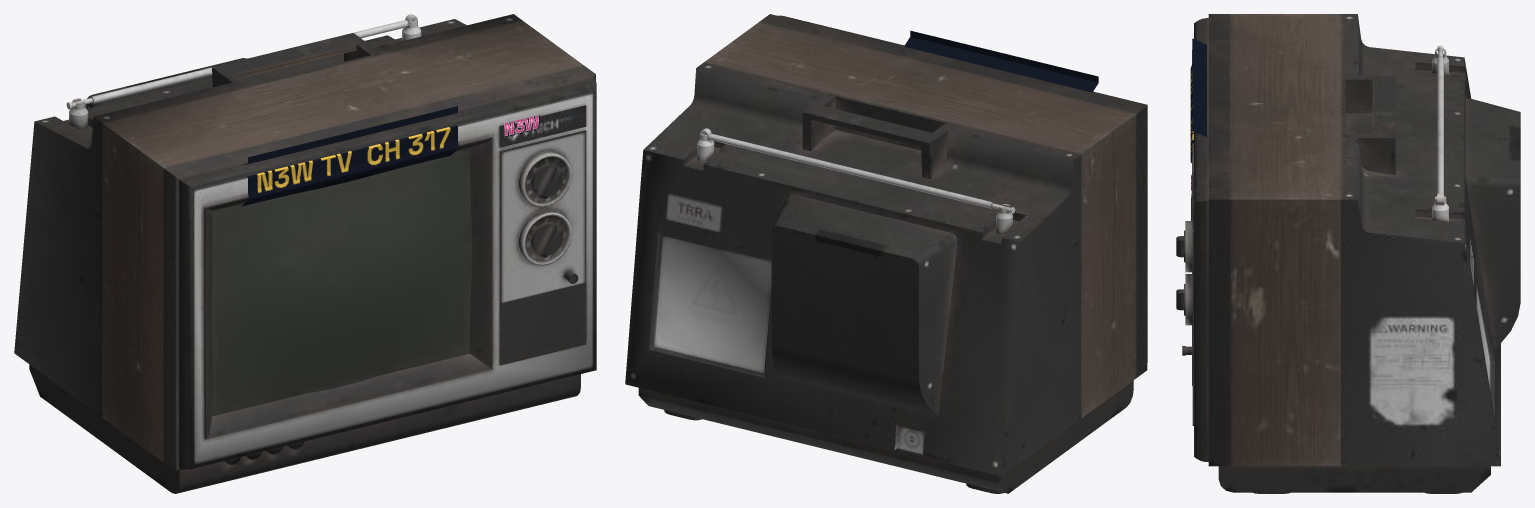
The model's file is nyb_mean_tv.glb.
3 views of the same model, side by side, from view 1: azimuth 30°, elevation 25°; view 2: azimuth 150°, elevation 25°; view 3: azimuth 270°, elevation 25° (orthographic). The views are drawn at different scales.
Parts seen in each view (by area): view 1: Television_01, stk_lbl_96bedbf96f.png; view 2: Television_01, stk_lbl_96bedbf96f.png; view 3: Television_01, stk_lbl_96bedbf96f.png.
Part boxes in pixels (x1,y1,x2,y2): Television_01: (14, 14, 596, 493); stk_lbl_96bedbf96f.png: (240, 106, 458, 206); Television_01: (625, 14, 1147, 493); stk_lbl_96bedbf96f.png: (904, 30, 1098, 92); Television_01: (1176, 14, 1520, 493); stk_lbl_96bedbf96f.png: (1190, 38, 1206, 162).
Size of the model in its own units: 0.6 by 0.4715 by 0.4708.
3 materials, 3 textured.
